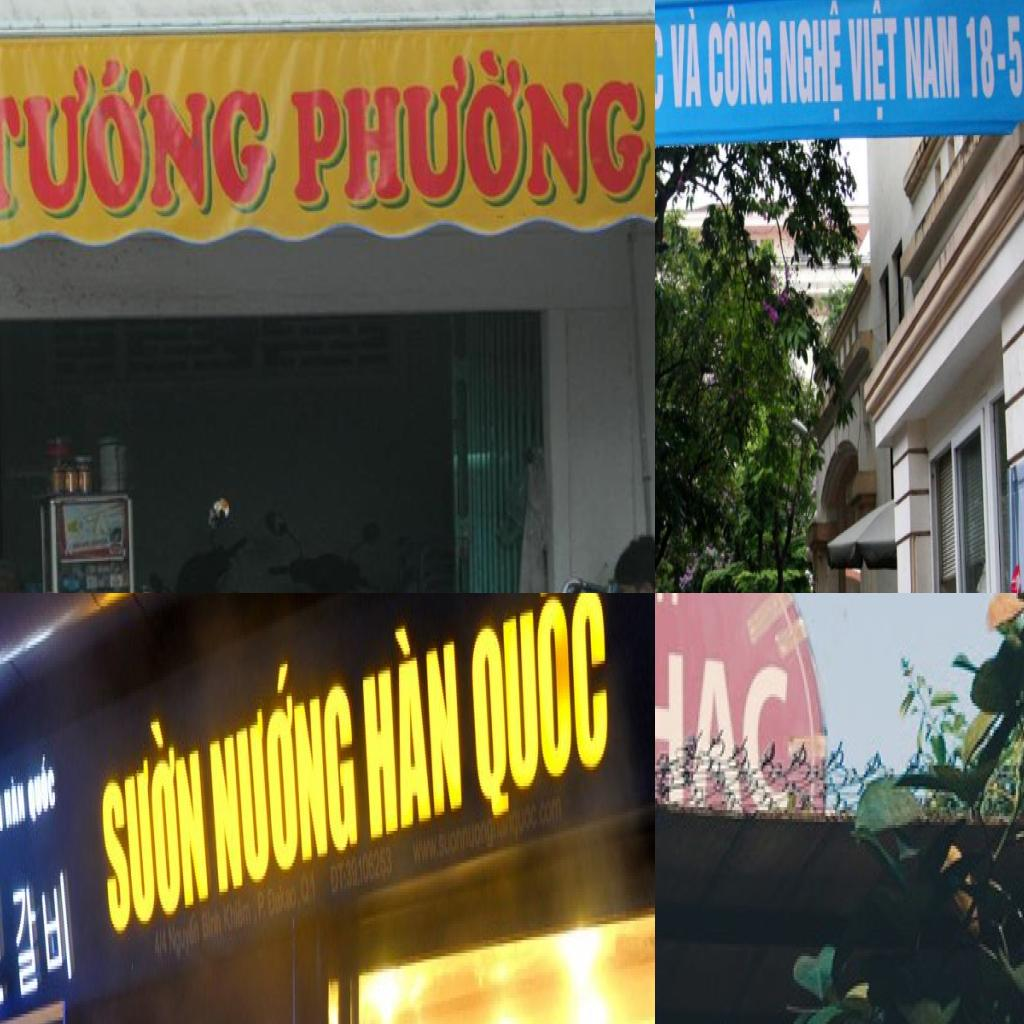text: (285, 46, 651, 214), (0, 50, 277, 221), (205, 635, 360, 902), (466, 593, 611, 824), (98, 700, 210, 944), (359, 606, 464, 844), (774, 0, 848, 130), (704, 0, 774, 110), (842, 0, 901, 130), (902, 10, 964, 106), (412, 818, 495, 876), (667, 3, 701, 115), (962, 14, 998, 104), (511, 796, 564, 847), (26, 751, 57, 831), (256, 876, 302, 927), (346, 844, 394, 892), (168, 908, 202, 969), (1003, 11, 1024, 104), (2, 770, 27, 834), (222, 892, 253, 940), (299, 866, 318, 912), (202, 905, 223, 943), (330, 860, 348, 898), (153, 924, 168, 966), (0, 786, 5, 840)
